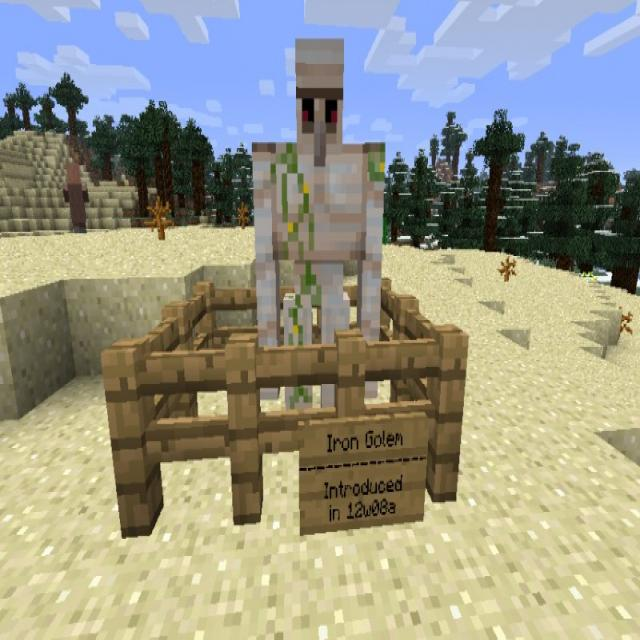Iron Golem: (250, 29, 384, 412)
